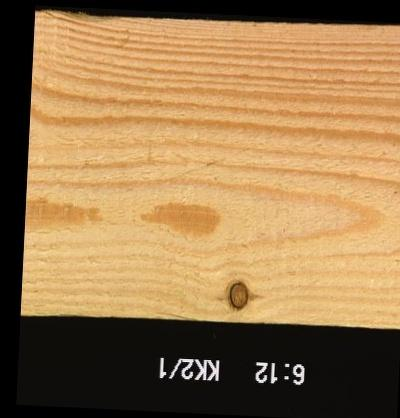dry_knot: (226, 281, 248, 311)
split: (148, 312, 194, 321)
wave: (33, 9, 125, 20)
